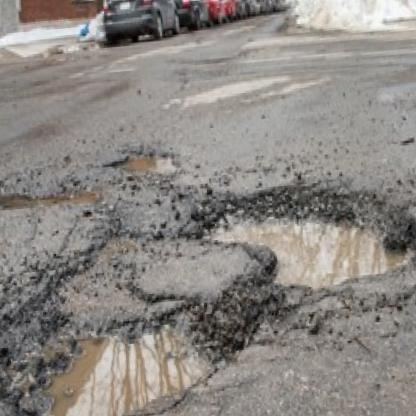pothole: (191, 167, 416, 317), (0, 272, 234, 416), (0, 174, 109, 216), (105, 142, 183, 185)
